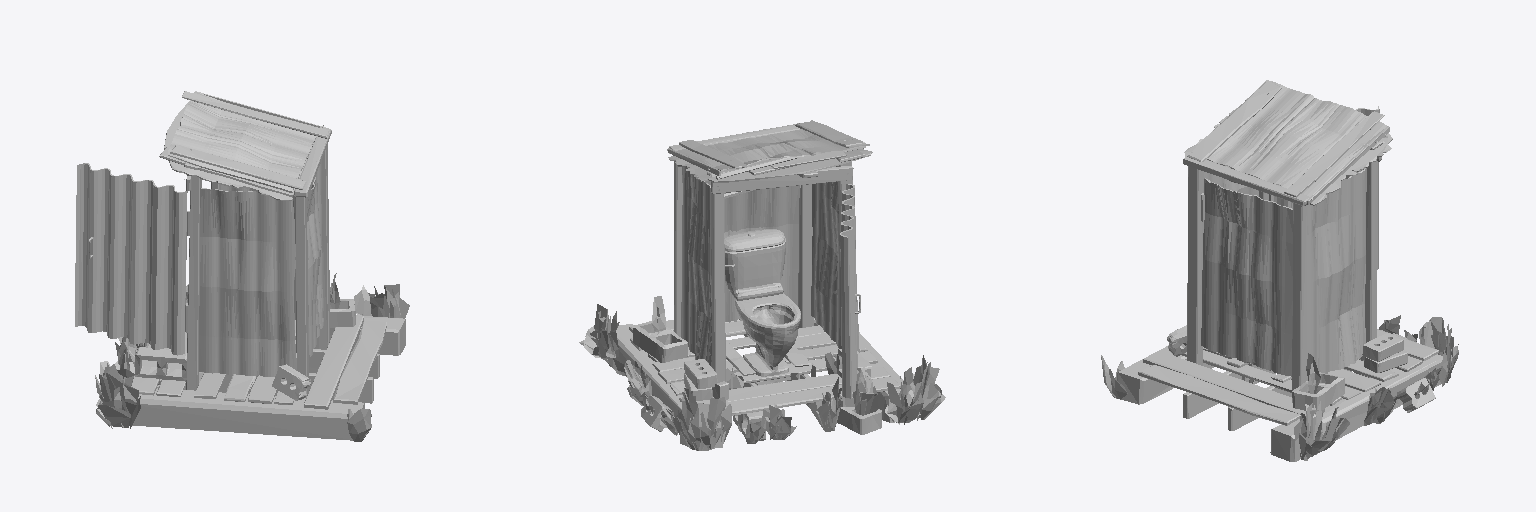
Rendered from baño_RE.obj.
The picture shows the model from 3 angles: view 1: azimuth 30°, elevation 25°; view 2: azimuth 150°, elevation 25°; view 3: azimuth 270°, elevation 25°; orthographic projection.
Visible parts, largest first — view 1: toilet, grass; view 2: toilet, grass, RetopoGroup1; view 3: toilet, grass.
Boxes of the visible parts, x1=… form: toilet: x1=75, y1=91, x2=405, y2=440; grass: x1=95, y1=273, x2=409, y2=441; toilet: x1=616, y1=120, x2=903, y2=440; grass: x1=579, y1=296, x2=945, y2=450; RetopoGroup1: x1=724, y1=229, x2=800, y2=376; toilet: x1=1117, y1=80, x2=1442, y2=461; grass: x1=1101, y1=315, x2=1458, y2=460.
Size of the model in its own units: 3.32 by 2.47 by 3.04.